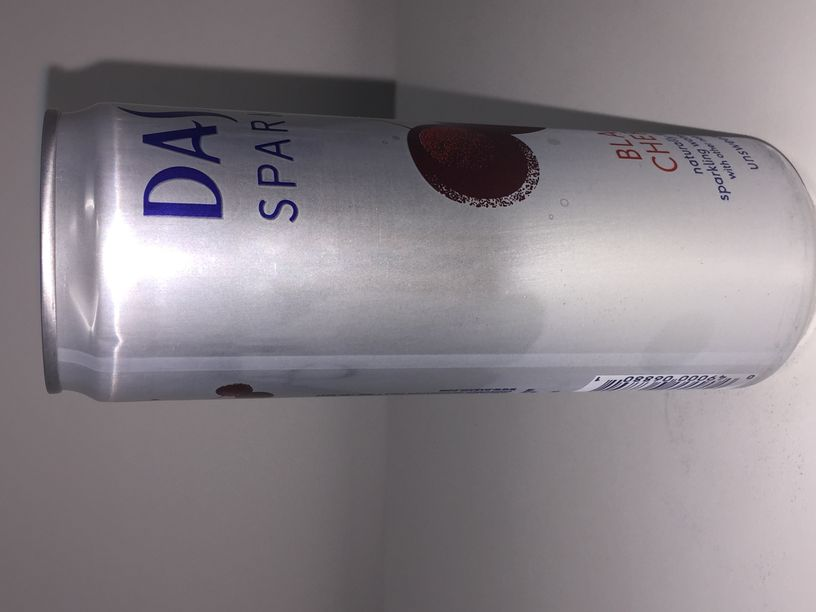blackcherry: (39, 103, 816, 403)
